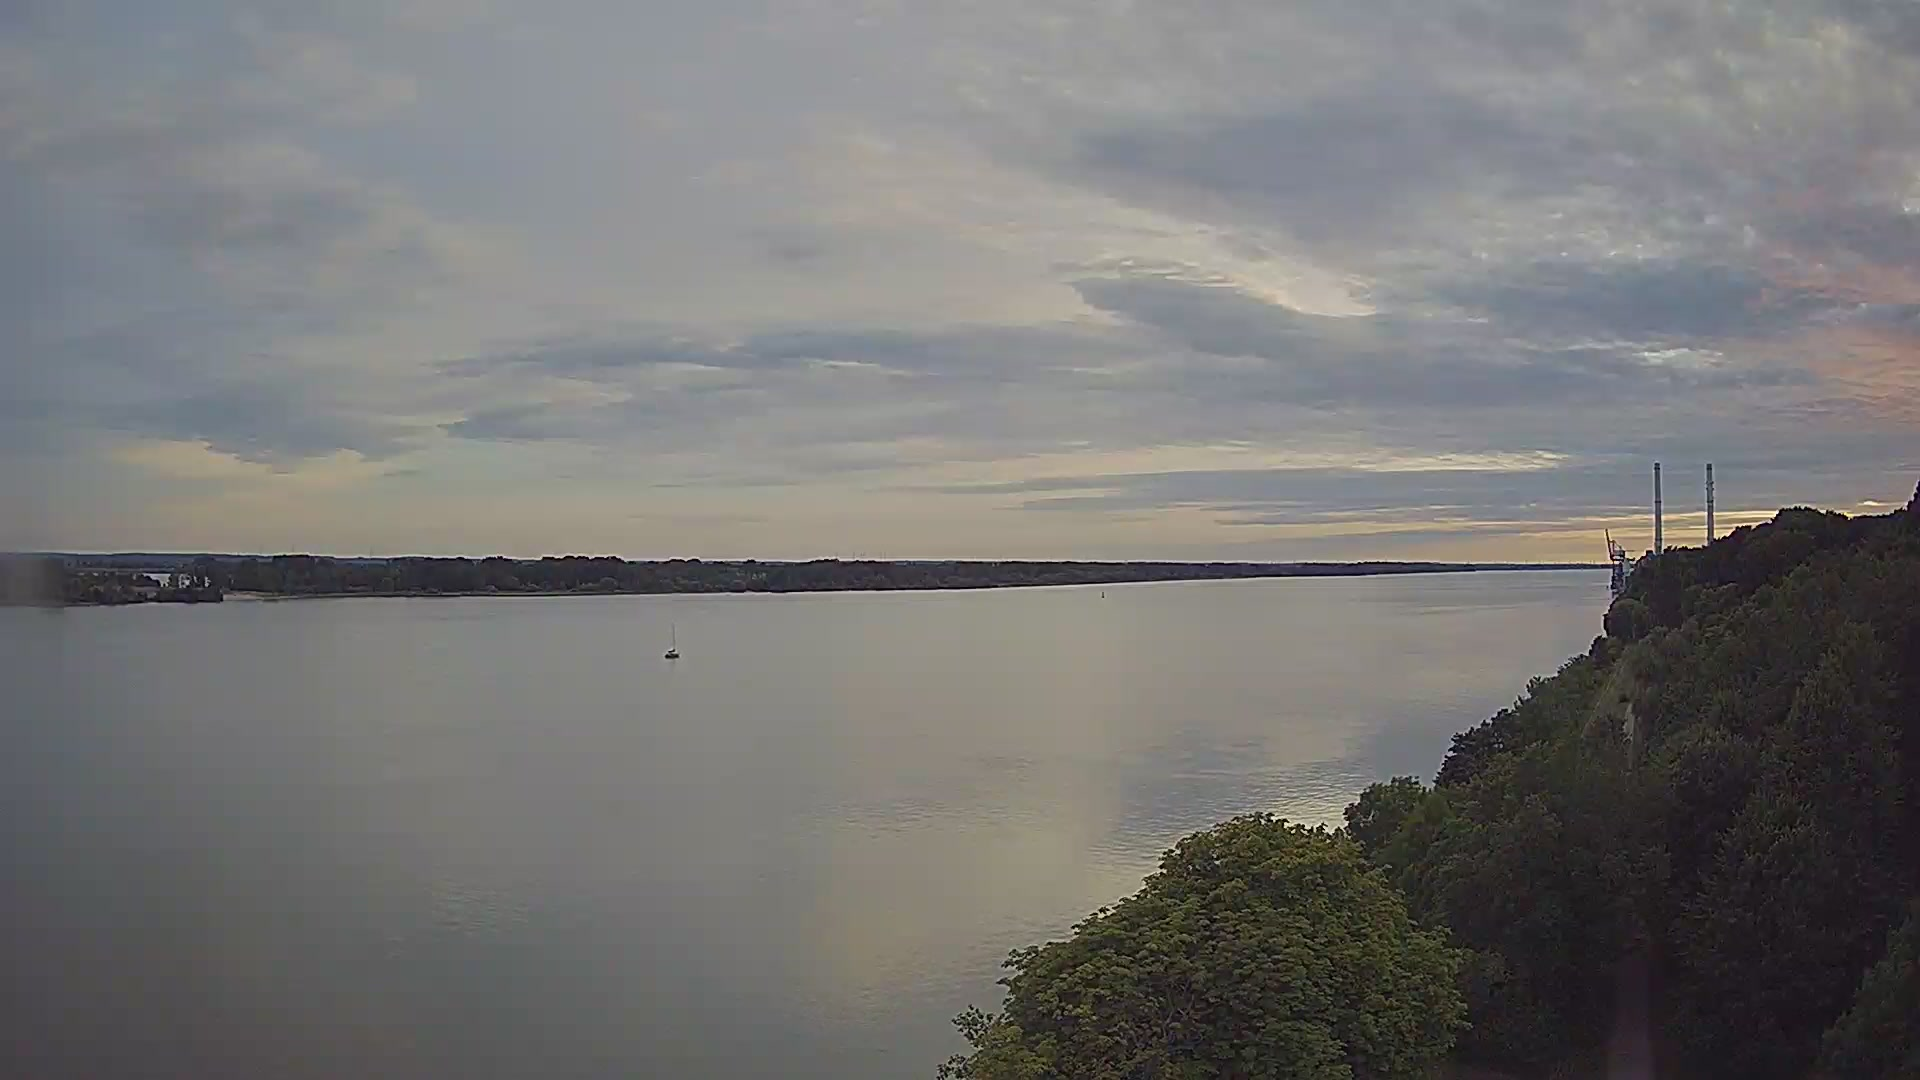sea: (665, 621, 680, 659)
